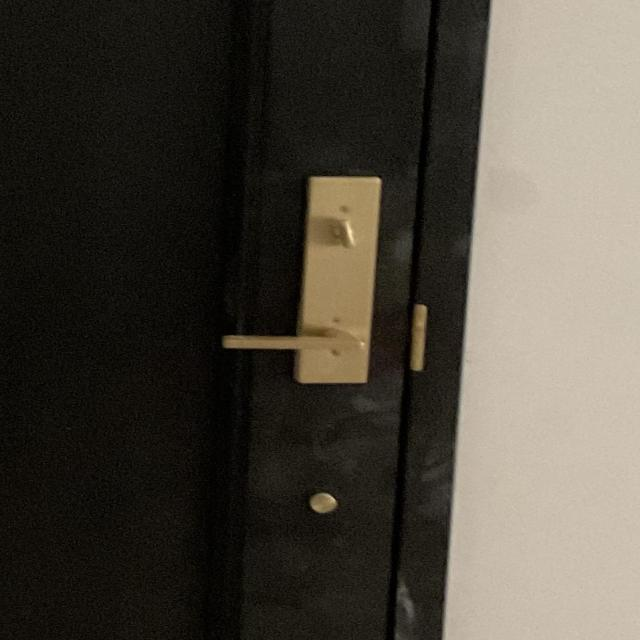doorhandle: (214, 301, 435, 384)
